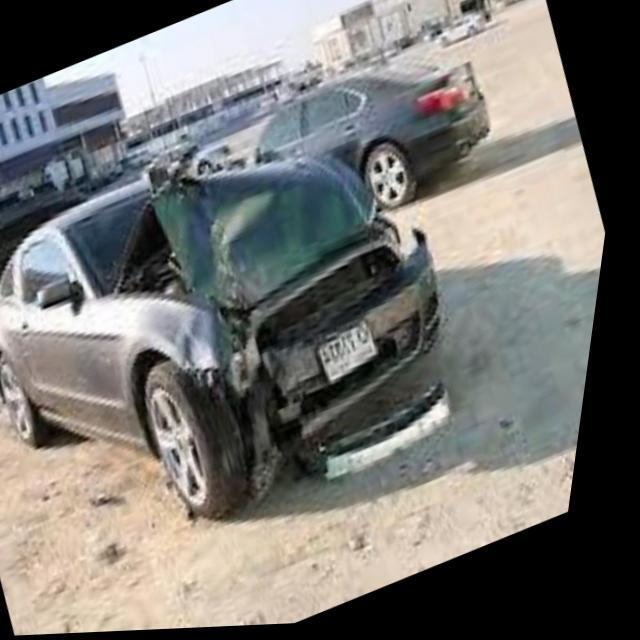dislocated part: (120, 149, 456, 489)
